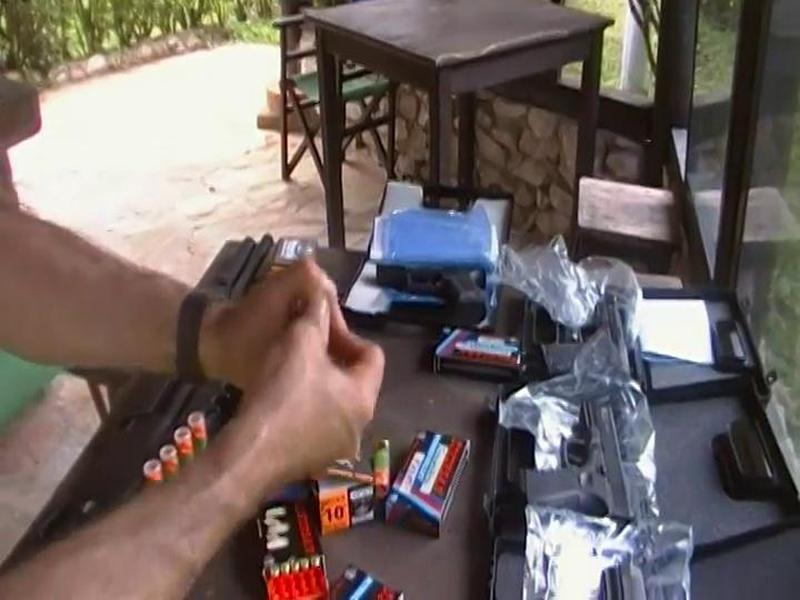Pistola: (505, 387, 661, 534)
